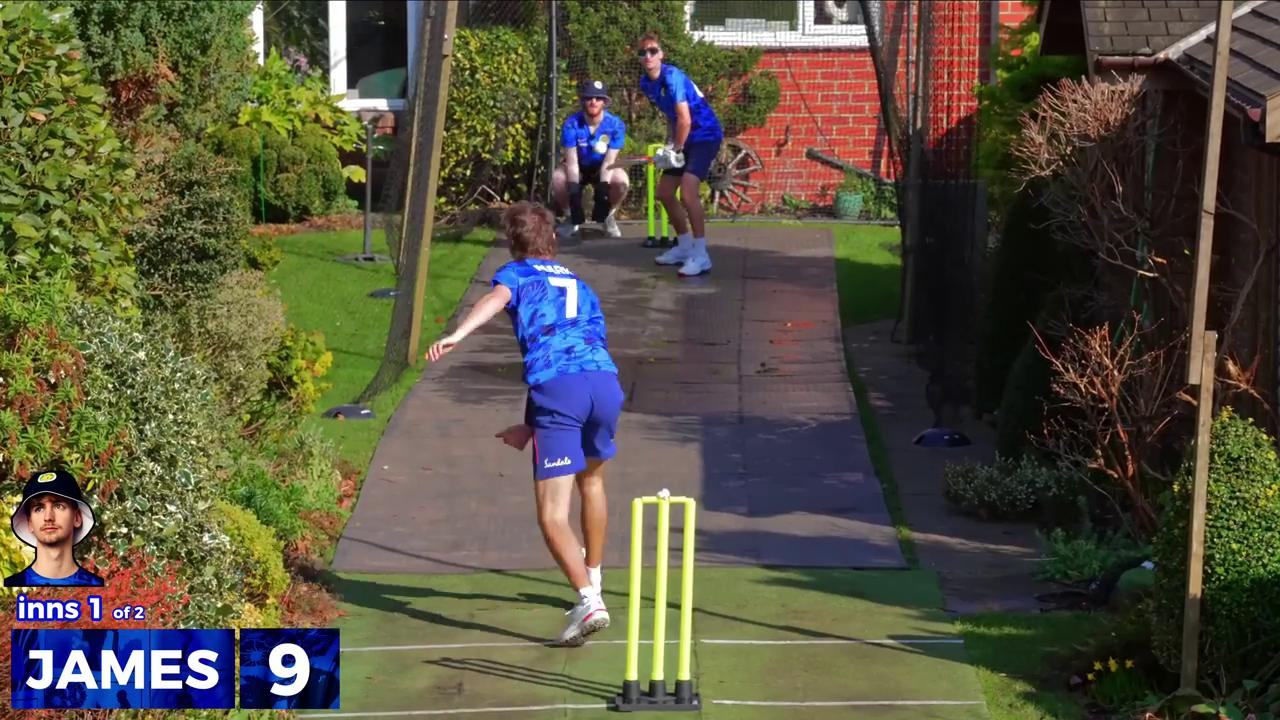ball: (583, 135, 626, 158)
